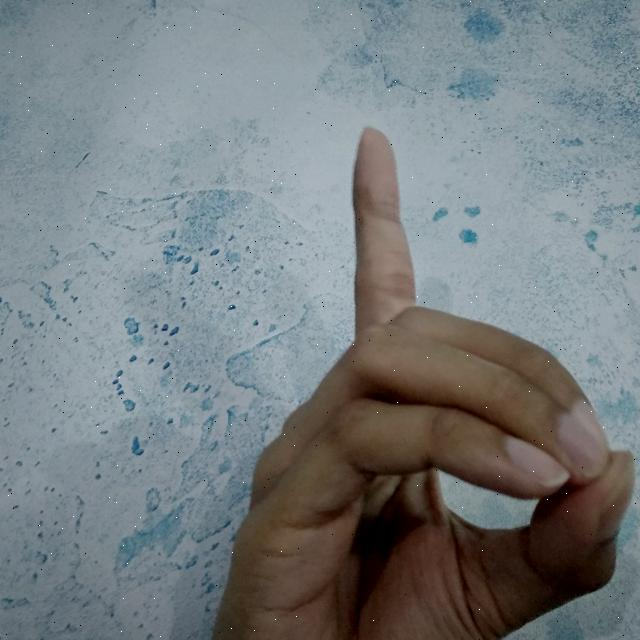D: (210, 126, 634, 640)
